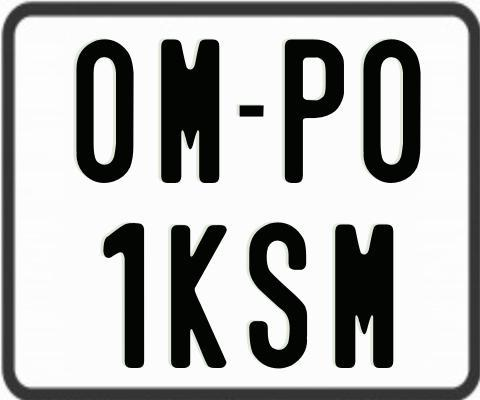0: (74, 37, 138, 185), (363, 38, 423, 184)
1: (101, 222, 146, 373)
K: (168, 223, 225, 371)
M: (160, 36, 224, 185), (333, 224, 395, 372)
P: (285, 36, 344, 182)
S: (248, 220, 309, 371)
